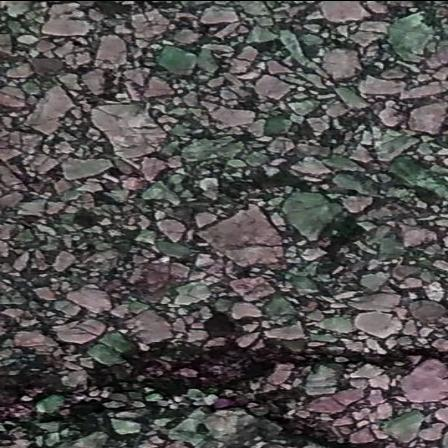crack: (3, 341, 444, 448)
